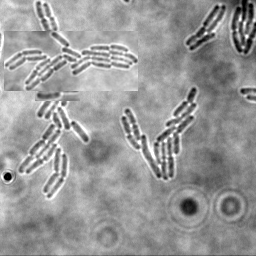Dividing: (34, 1, 52, 31), (41, 3, 57, 31)
Microcolony: (4, 31, 138, 91), (18, 92, 89, 199), (120, 87, 197, 181), (184, 5, 226, 52), (230, 1, 255, 56), (35, 77, 80, 101)
